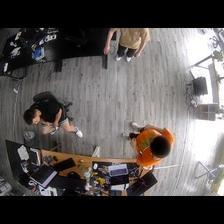normal: (24, 90, 82, 142), (120, 119, 176, 168), (103, 28, 150, 66)
